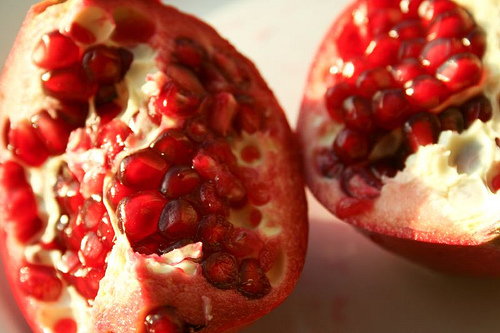pomogranate: (0, 0, 310, 332), (296, 0, 499, 278)
